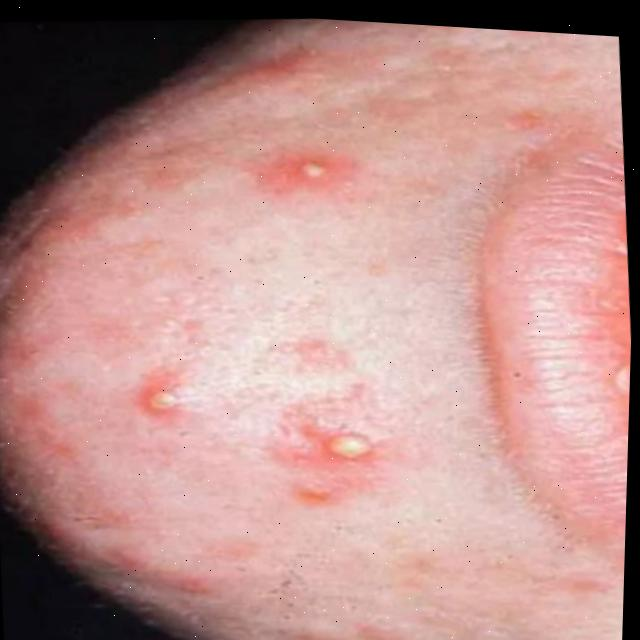Acne: (57, 115, 380, 555)
